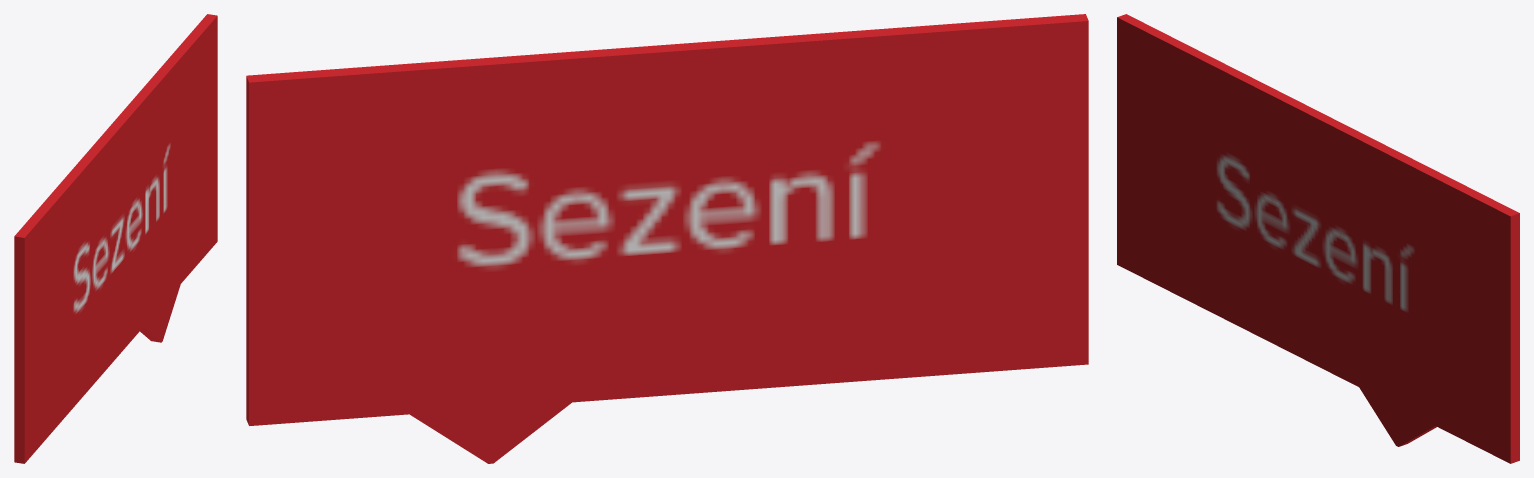
File: sign6.glb
3 views of the same model, side by side, from view 1: azimuth 30°, elevation 25°; view 2: azimuth 150°, elevation 25°; view 3: azimuth 270°, elevation 25° (orthographic). The views are drawn at different scales.
Visible parts, largest first — view 1: sign_6_sezeni; view 2: sign_6_sezeni; view 3: sign_6_sezeni.
Part boxes in pixels (box(x1,y1,x2,y2)): sign_6_sezeni: box(14, 14, 217, 463); sign_6_sezeni: box(246, 14, 1088, 463); sign_6_sezeni: box(1117, 14, 1519, 463).
Bounding box in the file's own units: 1.24 × 0.8188 × 1.04.
1 material, 1 textured.
